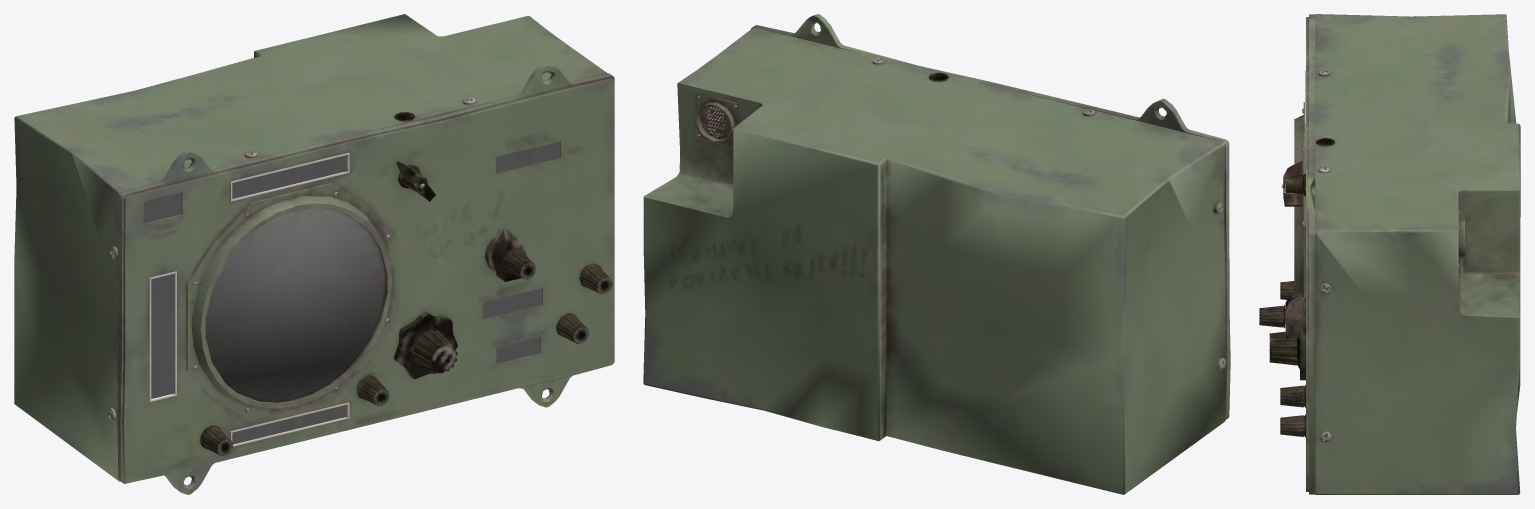
File: vintage_spacecraft_instrument.glb
The picture shows the model from 3 angles, left to right: view 1: azimuth 30°, elevation 25°; view 2: azimuth 150°, elevation 25°; view 3: azimuth 270°, elevation 25°; orthographic projection. The views are drawn at different scales.
Parts seen in each view (by area): view 1: vintage_spacecraft_instrument; view 2: vintage_spacecraft_instrument; view 3: vintage_spacecraft_instrument.
Boxes of the visible parts, box(x1,y1,x2,y2) form: vintage_spacecraft_instrument: box(14, 14, 614, 494); vintage_spacecraft_instrument: box(643, 14, 1230, 494); vintage_spacecraft_instrument: box(1259, 14, 1520, 494).
Bounding box in the file's own units: 0.4103 × 0.2693 × 0.2044.
Materials: 2 (2 with a texture image).
